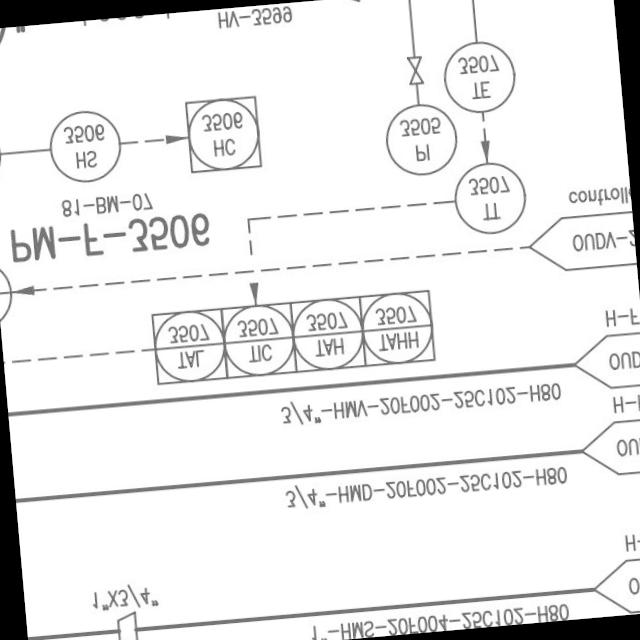GV: (402, 52, 426, 90)
SP: (110, 606, 145, 640)
